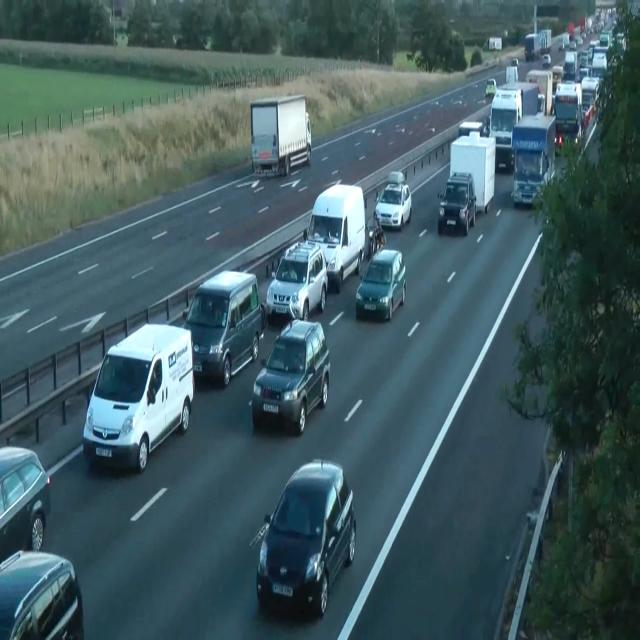bus: (0, 549, 84, 639), (0, 444, 51, 562), (458, 121, 483, 138), (386, 170, 406, 186), (485, 77, 497, 96), (559, 33, 569, 50), (542, 54, 551, 68), (511, 58, 519, 68)
jeep: (250, 457, 356, 618), (82, 322, 194, 473), (181, 268, 265, 386), (251, 317, 330, 435), (266, 239, 328, 321), (355, 247, 407, 321), (437, 170, 476, 234), (374, 171, 412, 230)
minibus: (304, 182, 366, 292), (250, 93, 312, 177), (488, 81, 540, 171), (511, 114, 557, 207), (450, 132, 496, 214), (554, 81, 582, 153), (525, 65, 563, 115), (524, 28, 552, 61), (482, 36, 502, 50)
